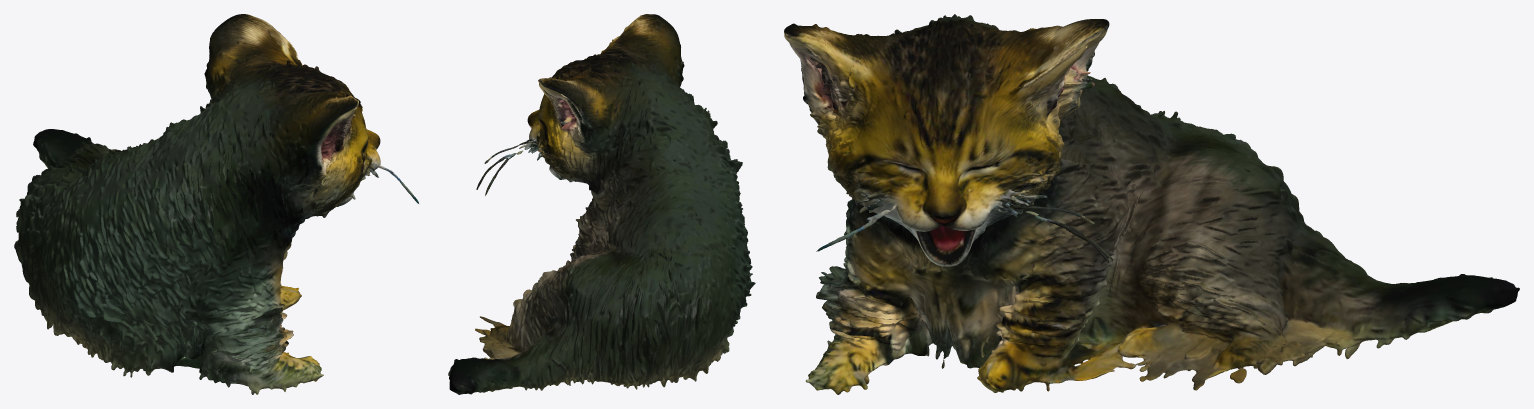
The model's file is Alegre.fbx.
3 views of the same model, side by side, from view 1: azimuth 30°, elevation 25°; view 2: azimuth 150°, elevation 25°; view 3: azimuth 270°, elevation 25° (orthographic). The views are drawn at different scales.
Visible parts, largest first — view 1: tripo_node_a68f0dfb; view 2: tripo_node_a68f0dfb; view 3: tripo_node_a68f0dfb.
Boxes of the visible parts, <box> form: tripo_node_a68f0dfb: <box>14,14,418,394</box>; tripo_node_a68f0dfb: <box>448,14,755,394</box>; tripo_node_a68f0dfb: <box>784,14,1519,394</box>.
Bounding box in the file's own units: 59.36 × 60.09 × 99.99.
Materials: 1 (1 with a texture image).
